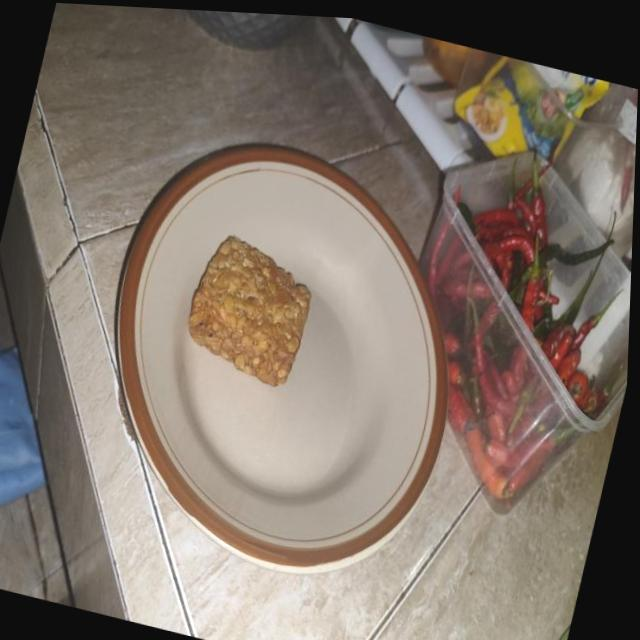tempe_goreng: (188, 236, 310, 386)
